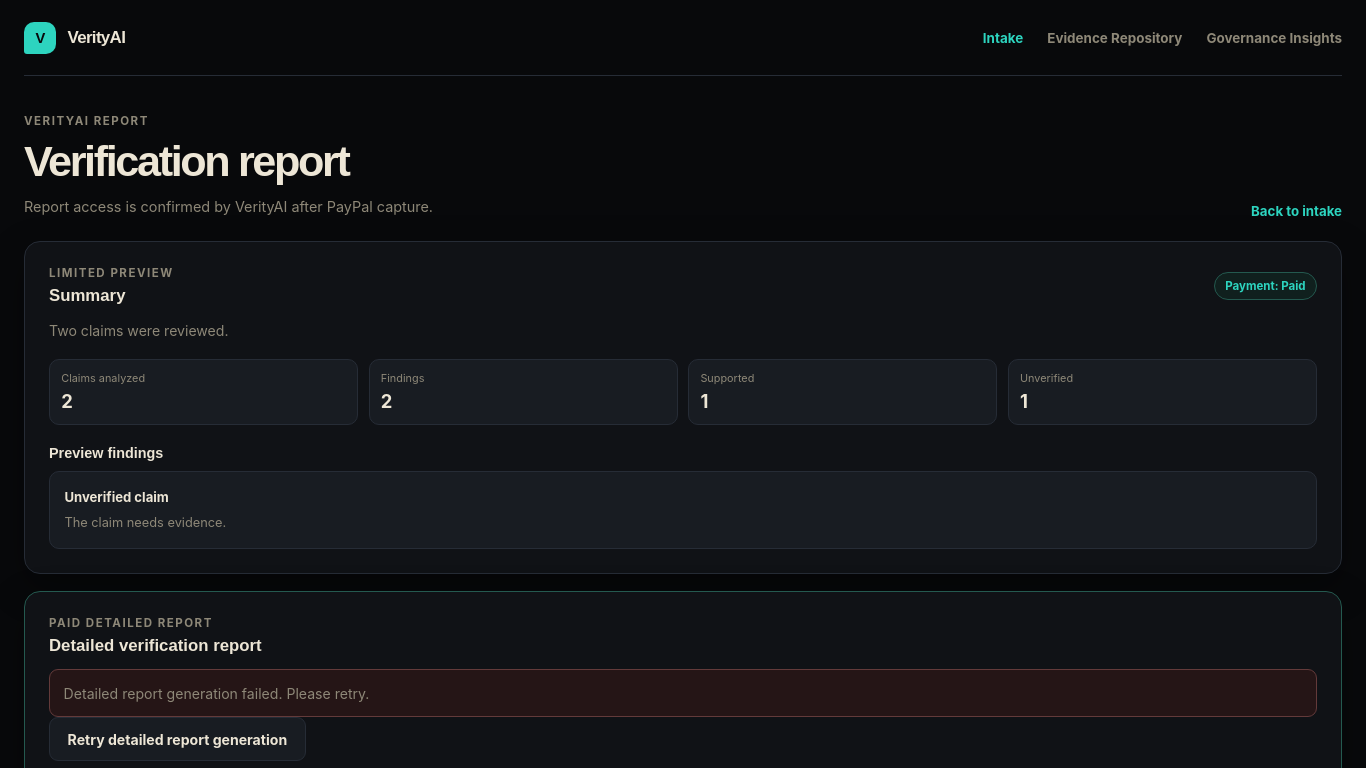
Test: report payment flow › shows a generation failure and permits retry
Expected: the message reads "Detailed report generation failed. Please retry.", [64,685,369,702]
Click the button "Retry detailed report generation" at (177,739), box [49,717,306,761]
(page scrolled)
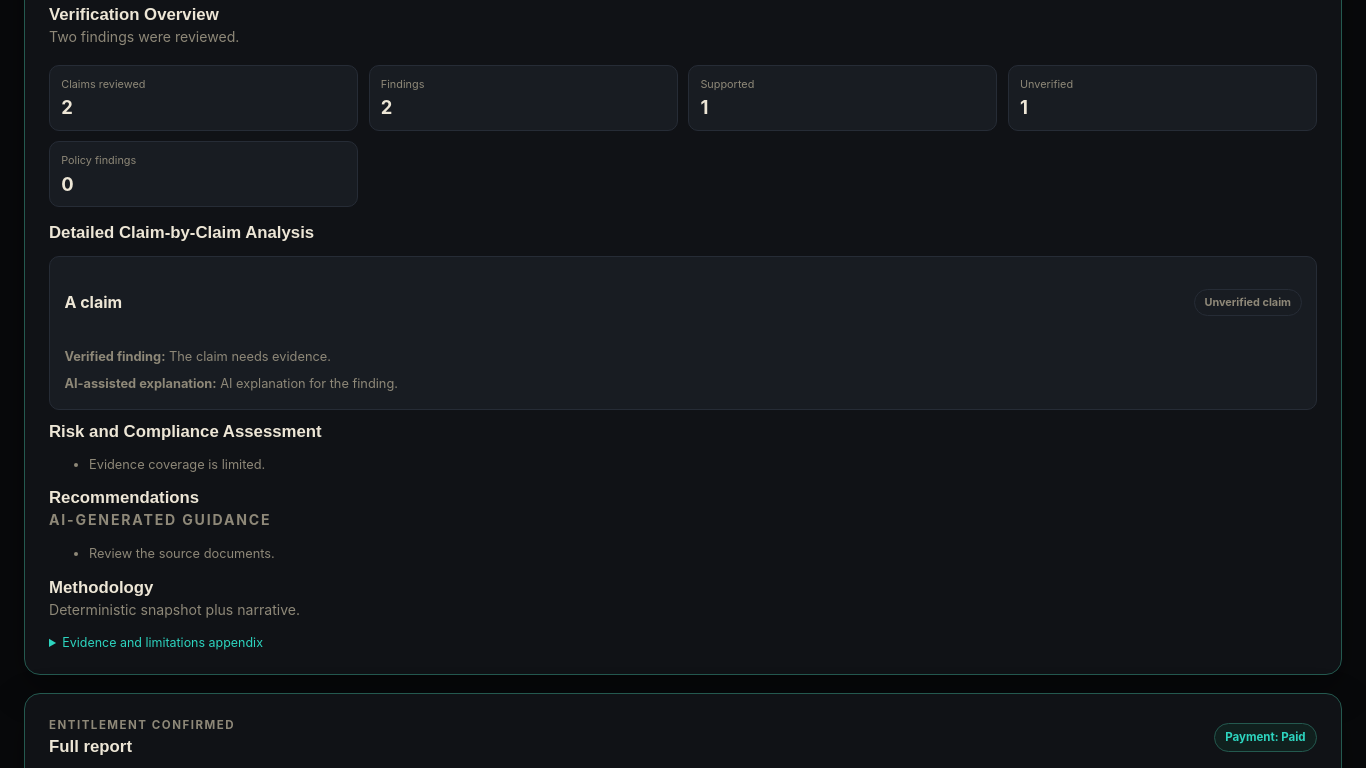
Expected: the text "AI explanation for the finding." is shown, [220,376,398,391]
